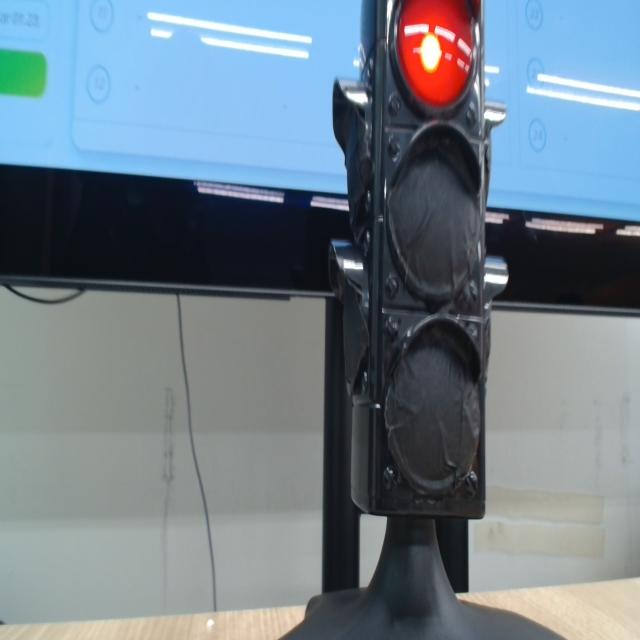red_light: (397, 0, 473, 107)
